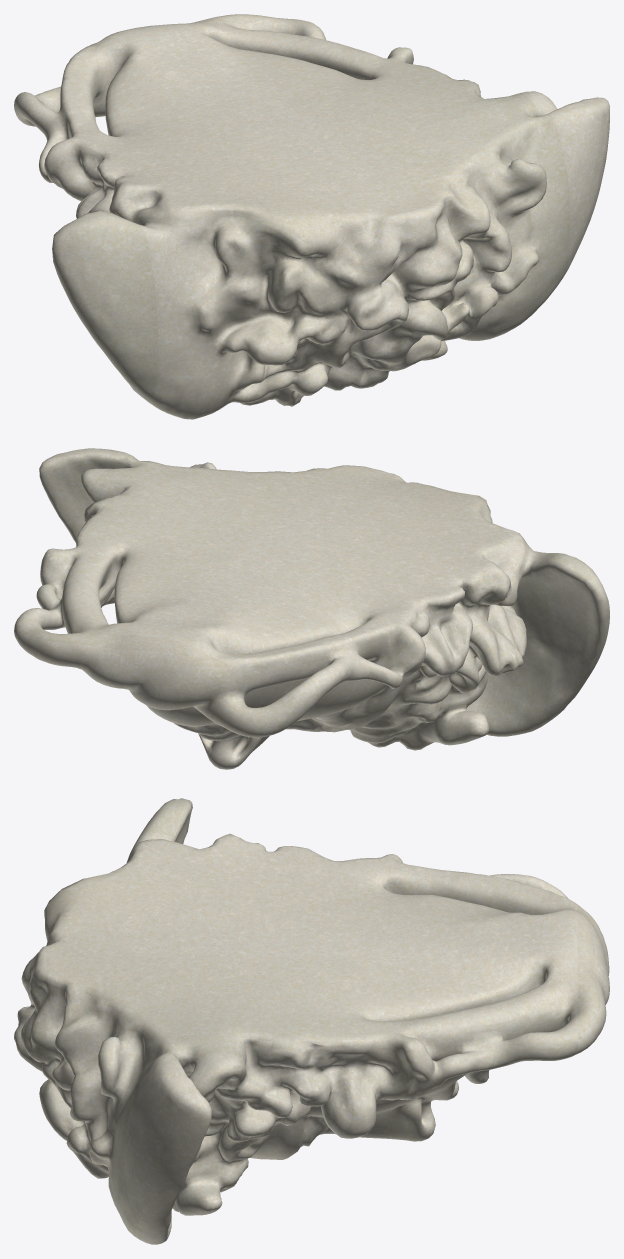
The model's file is GargoneFace.obj.
3 renders of one model, top to bottom at view 1: azimuth 30°, elevation 25°; view 2: azimuth 150°, elevation 25°; view 3: azimuth 270°, elevation 25°, orthographic. The views are drawn at different scales.
Parts seen in each view (by area): view 1: Gargone; view 2: Gargone; view 3: Gargone.
Part boxes in pixels (left/top/right/bottom): Gargone: left=14, top=14, right=609, bottom=419; Gargone: left=14, top=448, right=609, bottom=769; Gargone: left=14, top=798, right=609, bottom=1244.
Size of the model in its own units: 378 by 149 by 315.
